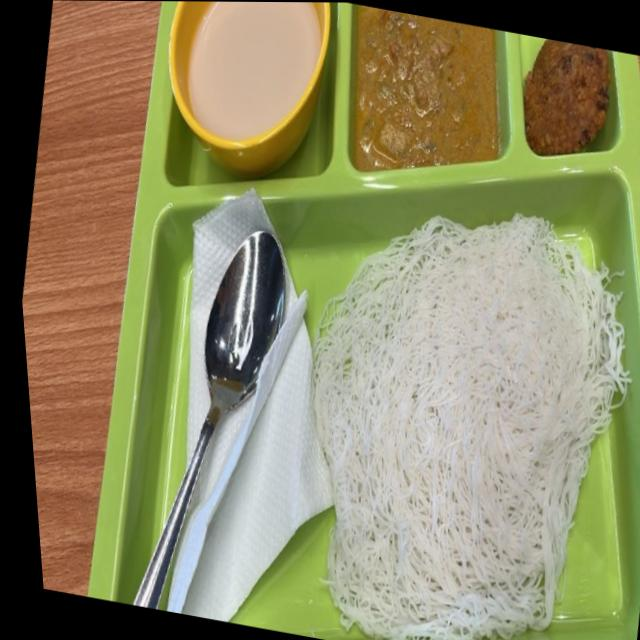IDIYAPPAM: (315, 192, 632, 640)
KURMA: (347, 5, 511, 181), (178, 2, 314, 151)
VADA: (521, 37, 618, 155)
